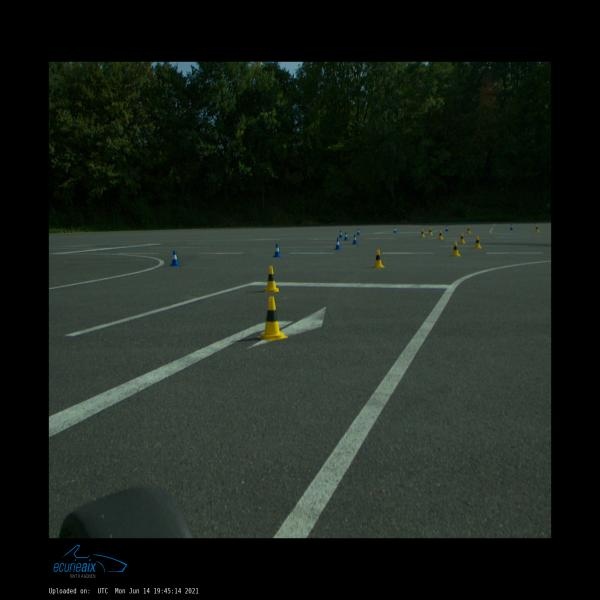blue_cone: (170, 251, 180, 266), (273, 244, 282, 257), (335, 238, 341, 250), (352, 234, 358, 244), (338, 230, 342, 238), (344, 232, 348, 240), (445, 225, 449, 231), (393, 227, 397, 233), (510, 224, 513, 231), (357, 229, 360, 235)
yellow_cone: (257, 296, 288, 340), (263, 266, 279, 293), (373, 250, 385, 268), (452, 242, 460, 256), (474, 236, 482, 249), (534, 224, 540, 233), (460, 233, 465, 243), (438, 230, 443, 239), (420, 229, 425, 237), (428, 228, 433, 235), (467, 226, 471, 234)
